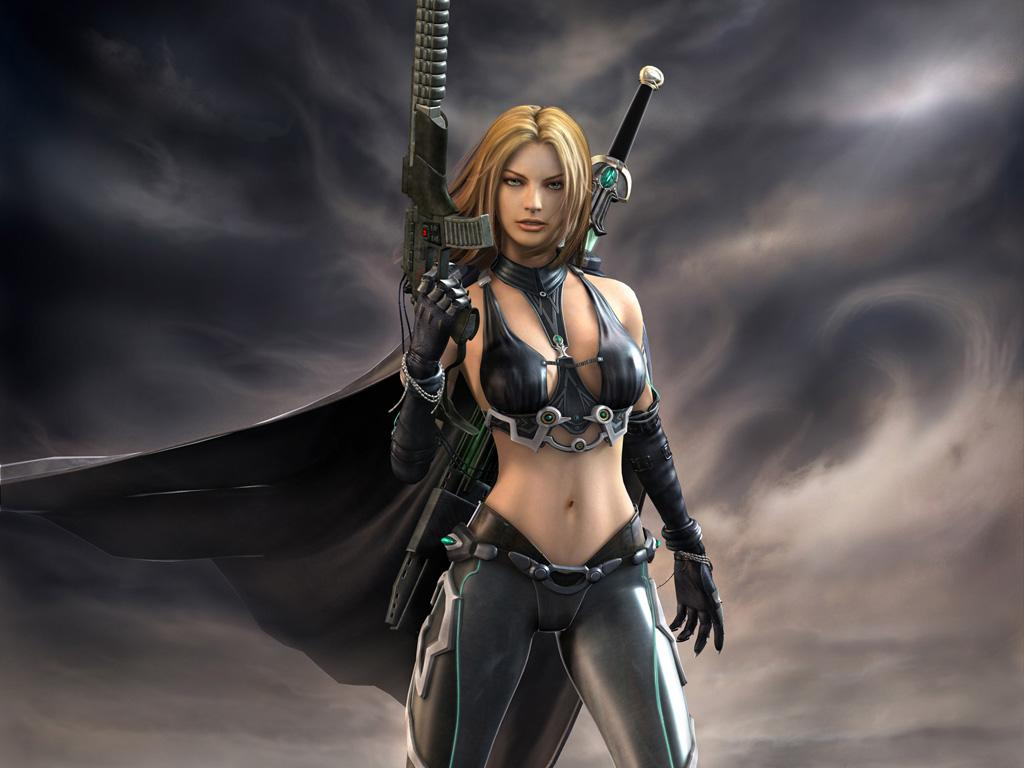person: (348, 135, 753, 765)
